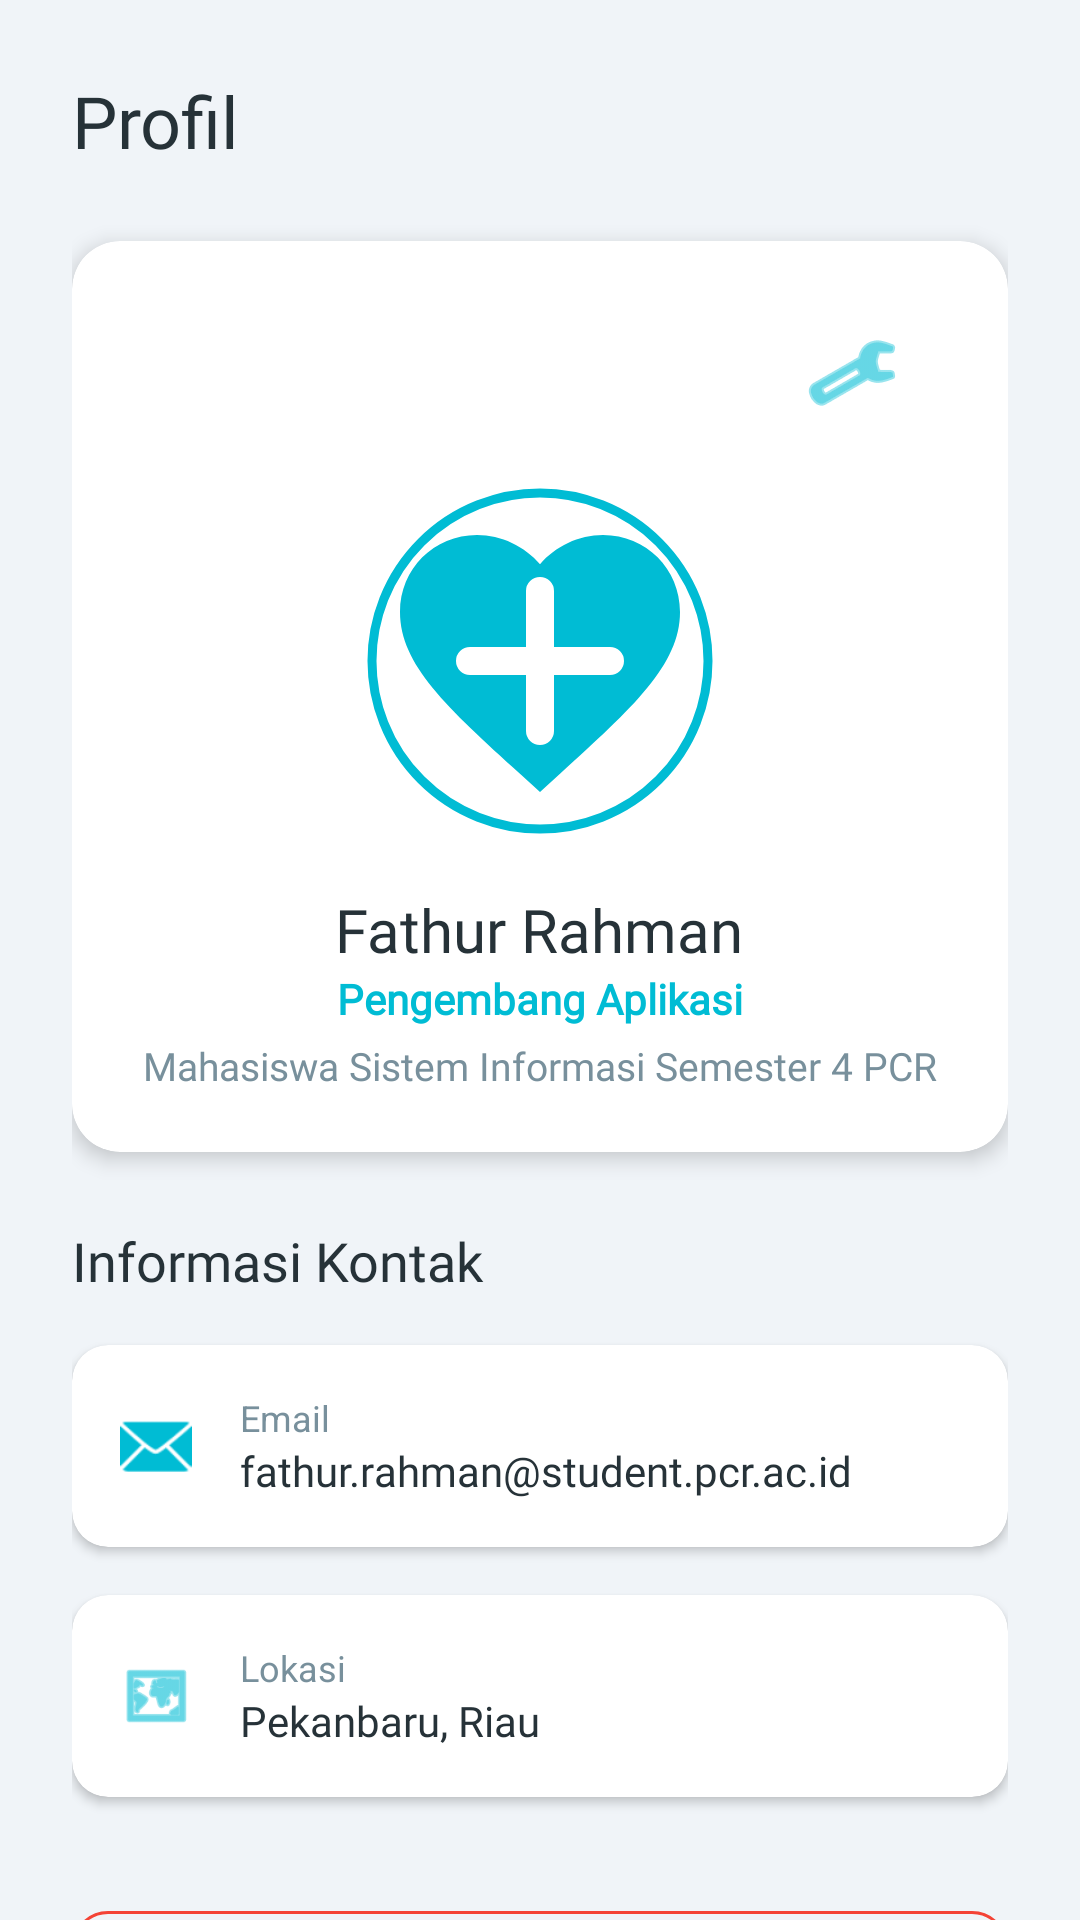

Icon click points for this 1080*1920 phone screenshot, format (x,y):
manage: (852,373)
mapmode: (156,1696)
